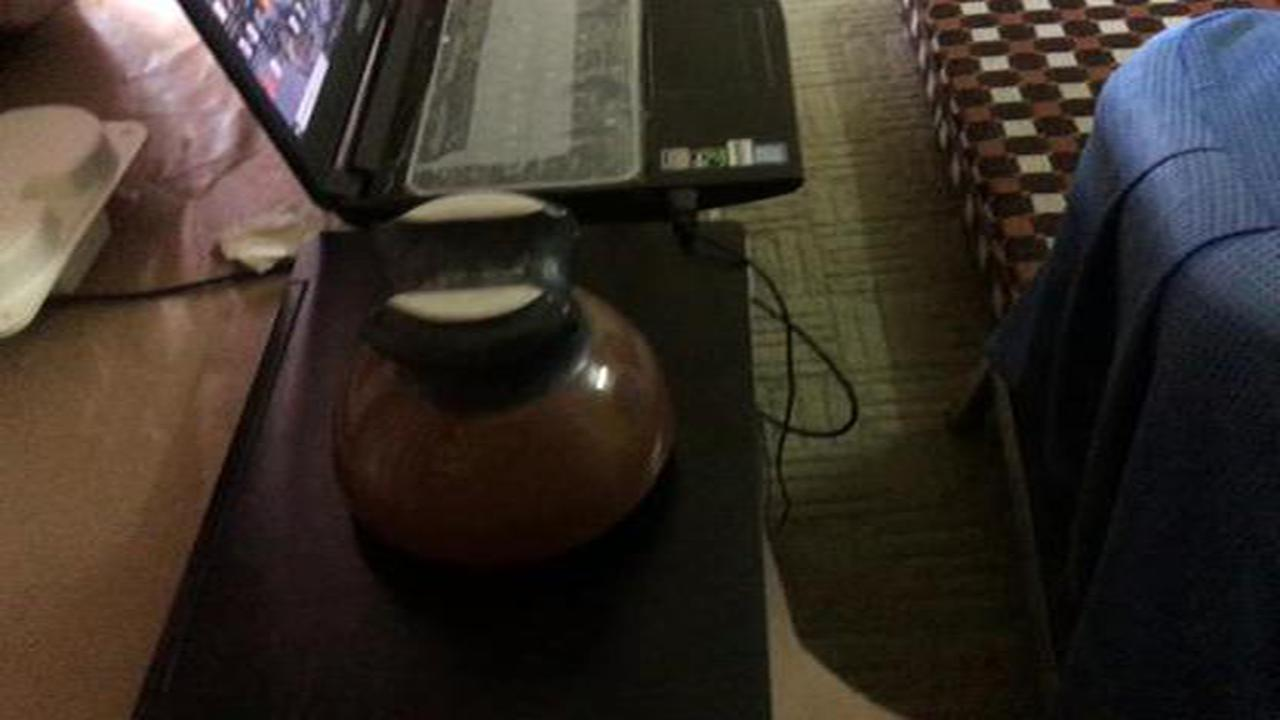insulator_pin: (305, 168, 699, 594)
